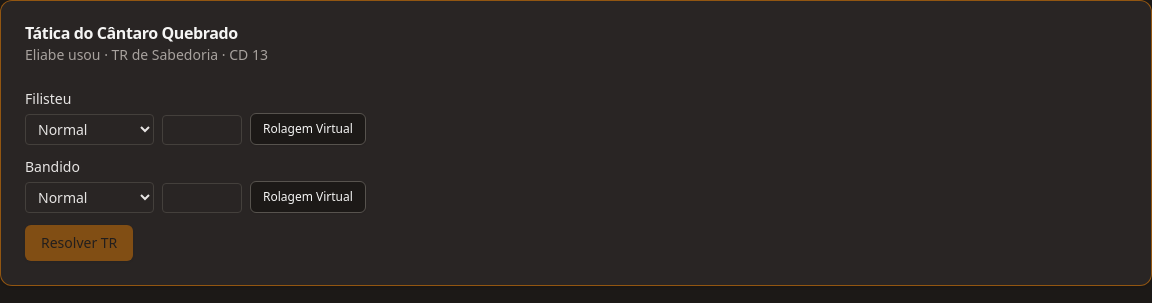
AbilityPendingPanel › resolver fica desabilitado até todos os alvos terem o d20
The image size is (1152, 303).
Expected: the button "Resolver TR" is disabled, x1=25 y1=225 x2=133 y2=261
Type "12" into the number field named "d20 de Filisteu" at (202, 130), box x1=162 y1=115 x2=242 y2=145
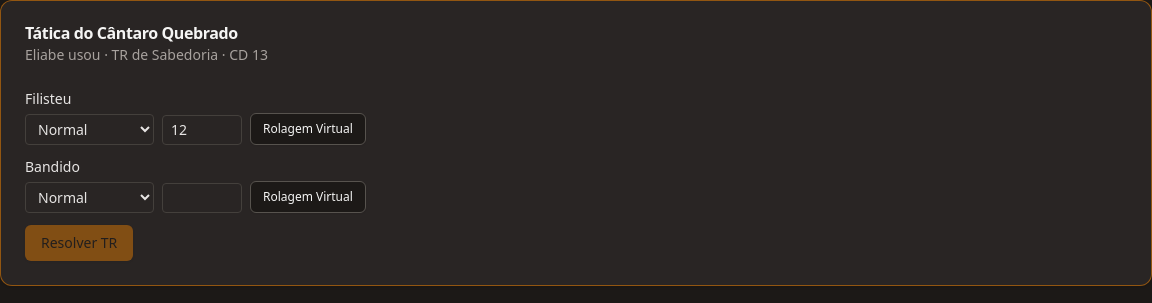
Expected: the button "Resolver TR" is disabled, x1=25 y1=225 x2=133 y2=261
Type "7" into the number field named "d20 de Bandido" at (202, 198), box x1=162 y1=183 x2=242 y2=213
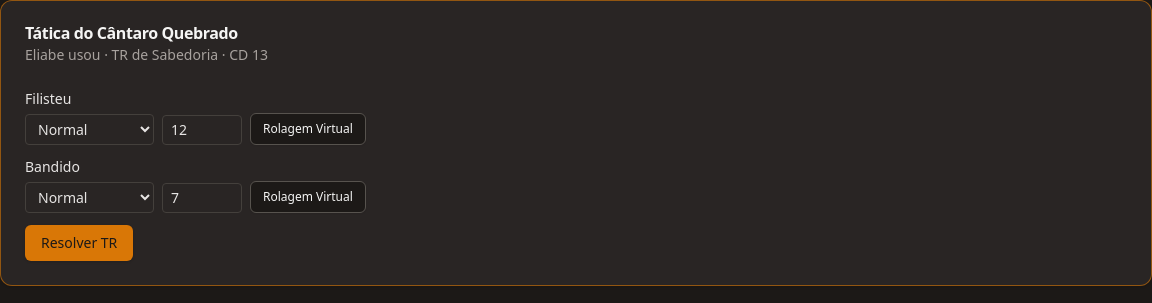
Now the button "Resolver TR" is enabled, box x1=25 y1=225 x2=133 y2=261
